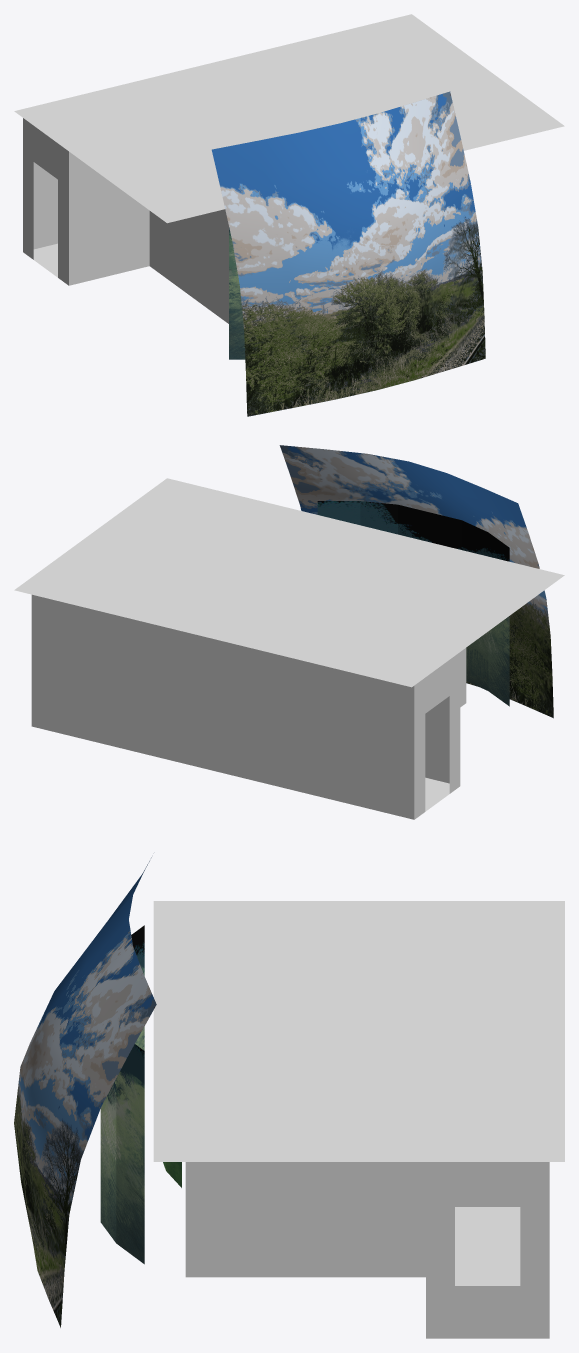
The model's file is room window done.fbx.
3 renders of one model, top to bottom at view 1: azimuth 30°, elevation 25°; view 2: azimuth 150°, elevation 25°; view 3: azimuth 270°, elevation 25°, orthographic. The views are drawn at different scales.
Visible parts, largest first — view 1: Plane.006, Plane.005, Plane, Plane.003, Plane.004, Plane.001; view 2: Plane.005, Plane, Plane.006, Plane.004, Plane.001; view 3: Plane.005, Plane, Plane.006, Plane.004, Plane.001.
Part boxes in pixels (x1,y1,x2,y2): Plane.006: [211, 91, 485, 416]; Plane.005: [14, 14, 564, 223]; Plane: [23, 118, 149, 285]; Plane.003: [149, 209, 228, 323]; Plane.004: [229, 227, 245, 359]; Plane.001: [33, 243, 57, 277]; Plane.005: [14, 478, 564, 687]; Plane: [31, 594, 460, 819]; Plane.006: [279, 445, 553, 718]; Plane.004: [317, 501, 509, 706]; Plane.001: [425, 777, 449, 811]; Plane.005: [153, 901, 564, 1161]; Plane: [185, 1162, 549, 1338]; Plane.006: [14, 857, 156, 1327]; Plane.004: [100, 925, 144, 1264]; Plane.001: [455, 1207, 520, 1285].
Size of the model in its own units: 4241 by 2508 by 3787.
